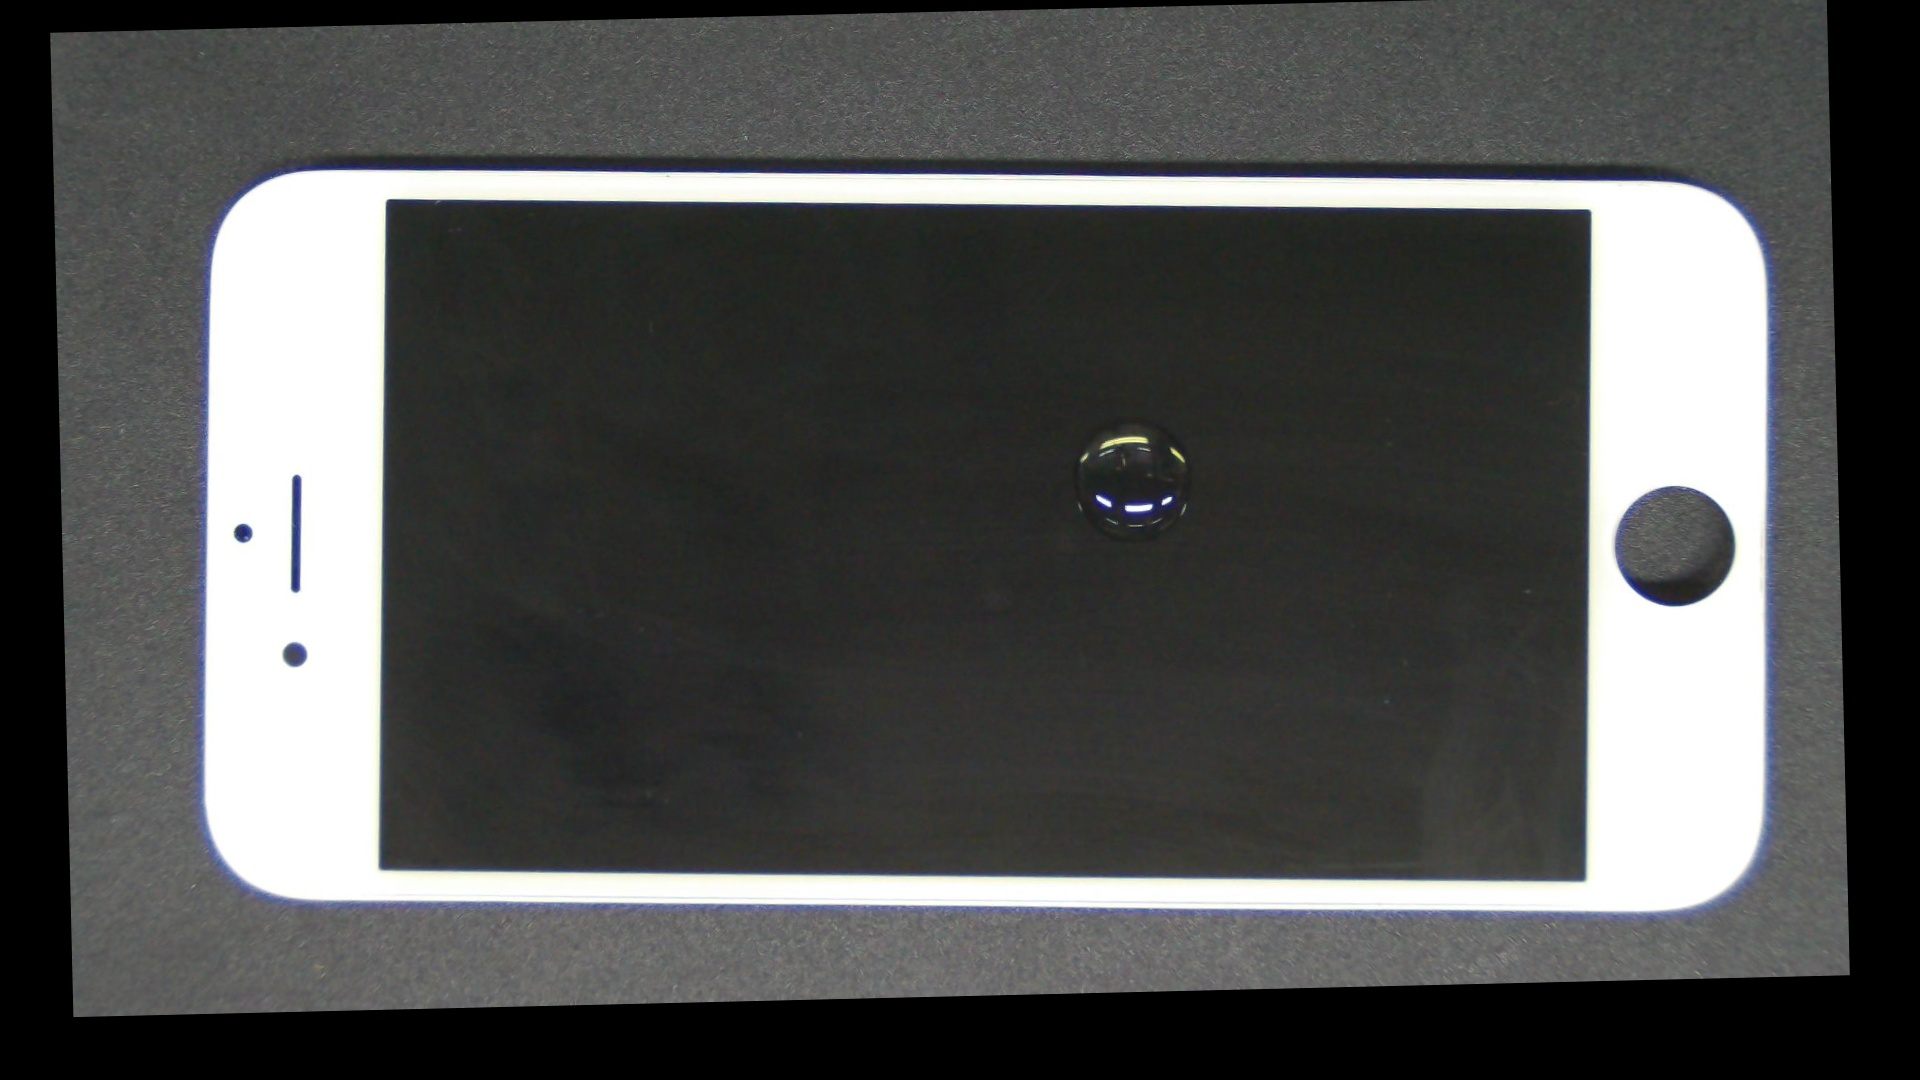oil: (585, 199, 1656, 632)
